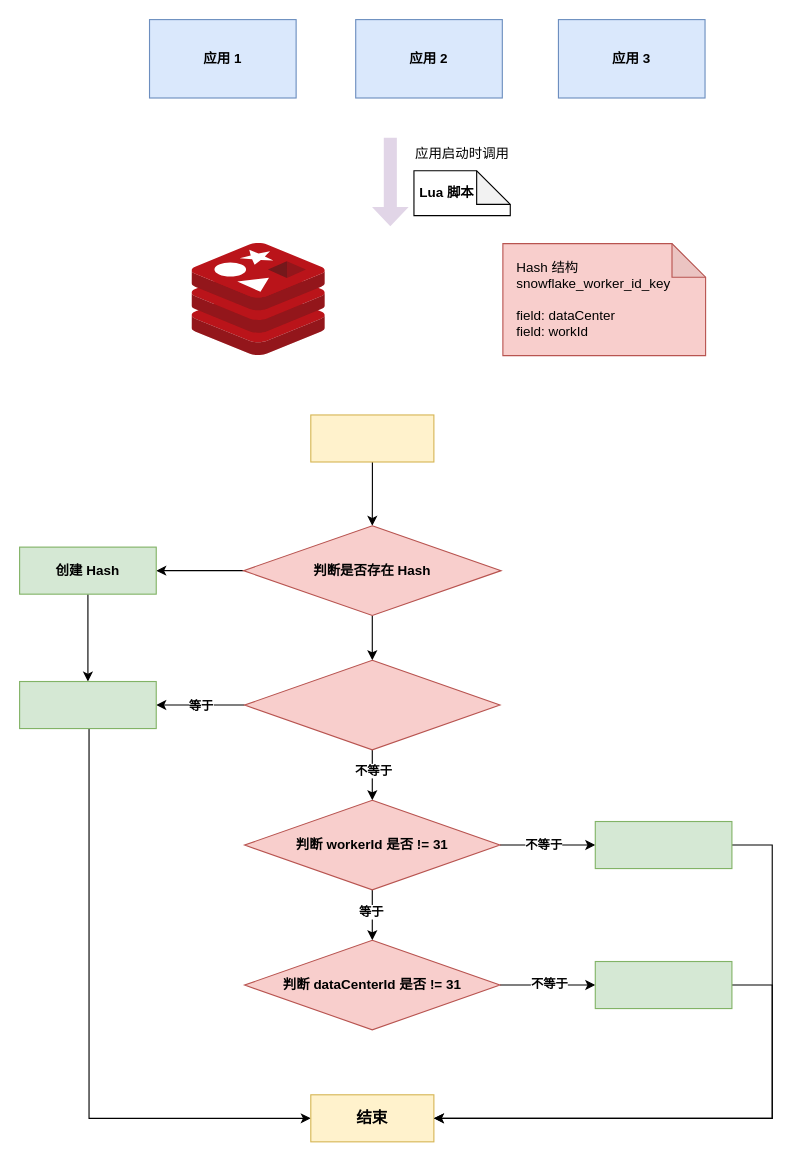
The diagram is 801 pixels wide and 1161 high, and some of its shapes have lost their labels. Each missing label, with the centre of its shape:
"dataCenterId、workerId 默认为 0" belongs at (x=87, y=704).
"判断 dataCenterId、workerId == 31" belongs at (x=371, y=704).
"开始 执行 Lua 脚本" belongs at (x=372, y=438).
"自增 dataCenterId 设置 workerId 为 0" belongs at (x=663, y=984).
"自增 workerId 并返回" belongs at (x=663, y=844).
